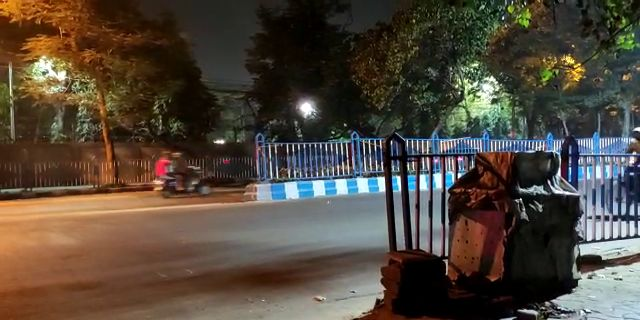Motorbike: (149, 146, 218, 201)
